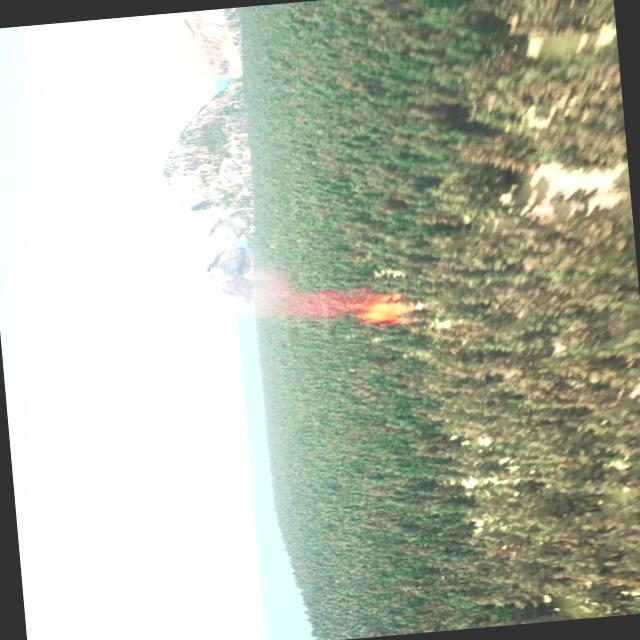fire: (344, 288, 414, 330)
smoke: (236, 262, 359, 326)
